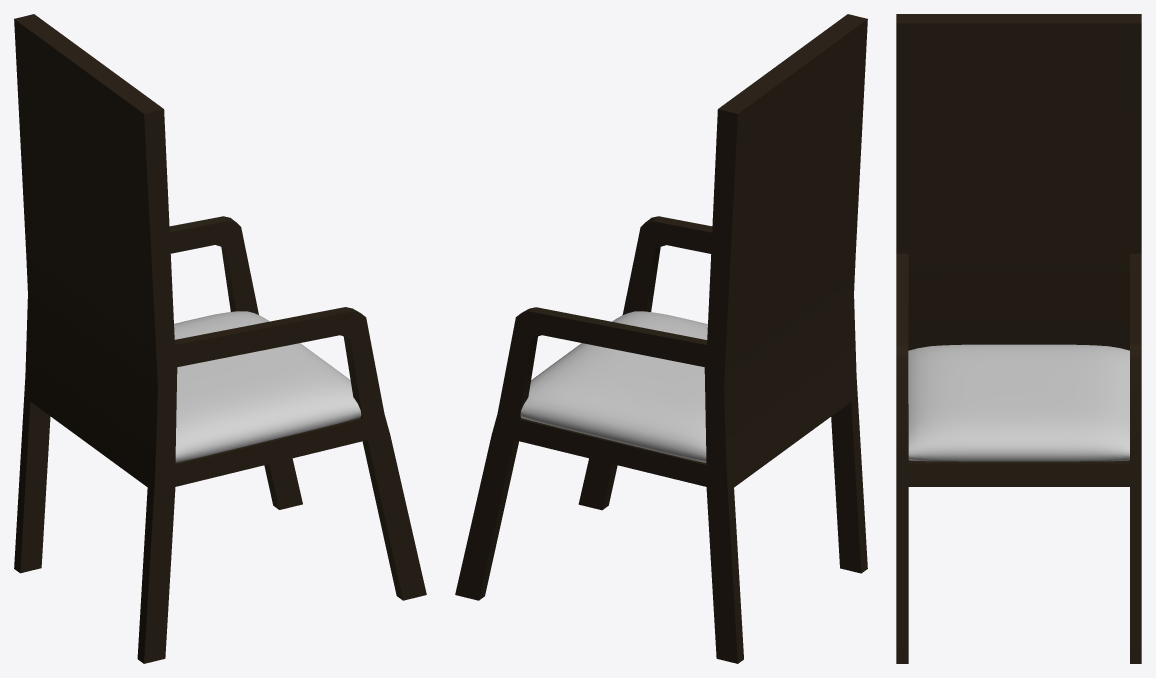
Rendered from Chair.fbx.
The picture shows the model from 3 angles, left to right: view 1: azimuth 30°, elevation 25°; view 2: azimuth 150°, elevation 25°; view 3: azimuth 270°, elevation 25°; orthographic projection. The views are drawn at different scales.
Visible parts, largest first — view 1: Recliner.024; view 2: Recliner.024; view 3: Recliner.024.
Boxes of the visible parts, left/top/right/bottom form: Recliner.024: left=14, top=14, right=426, bottom=663; Recliner.024: left=455, top=14, right=867, bottom=663; Recliner.024: left=896, top=14, right=1141, bottom=663.
Bounding box in the file's own units: 123 × 287 × 155.
